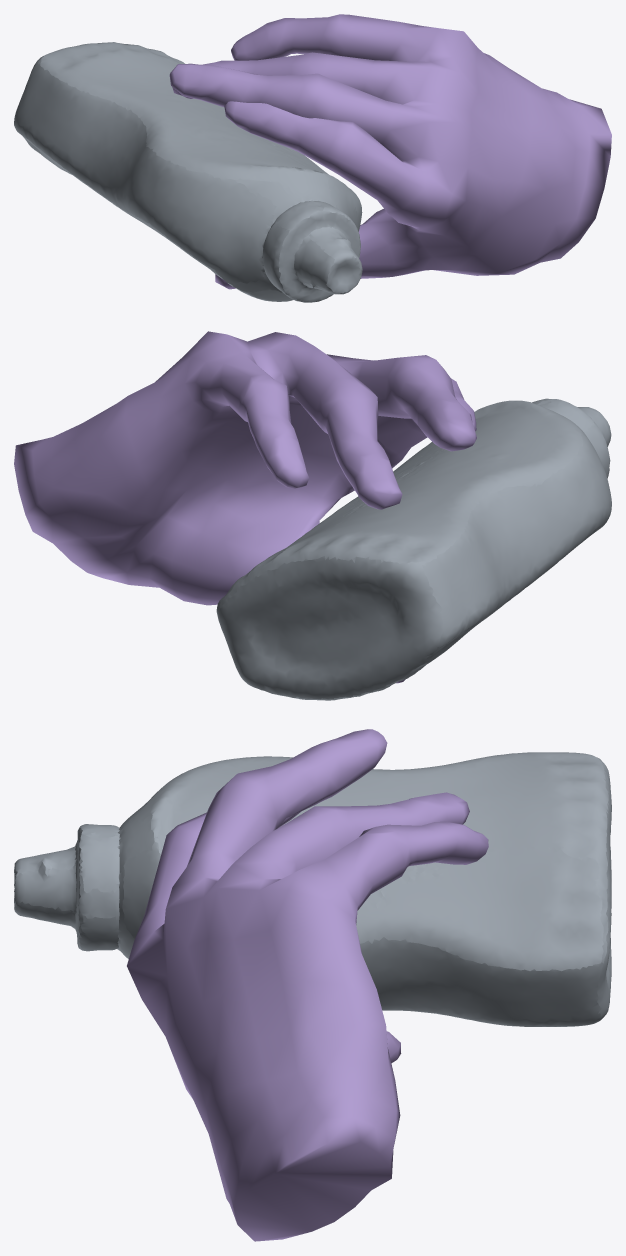
The model's file is ours_mustard_bottle.glb.
The picture shows the model from 3 angles, top to bottom: view 1: azimuth 30°, elevation 25°; view 2: azimuth 150°, elevation 25°; view 3: azimuth 270°, elevation 25°; orthographic projection. The views are drawn at different scales.
Bounding box in the file's own units: 0.2271 × 0.111 × 0.1914.
